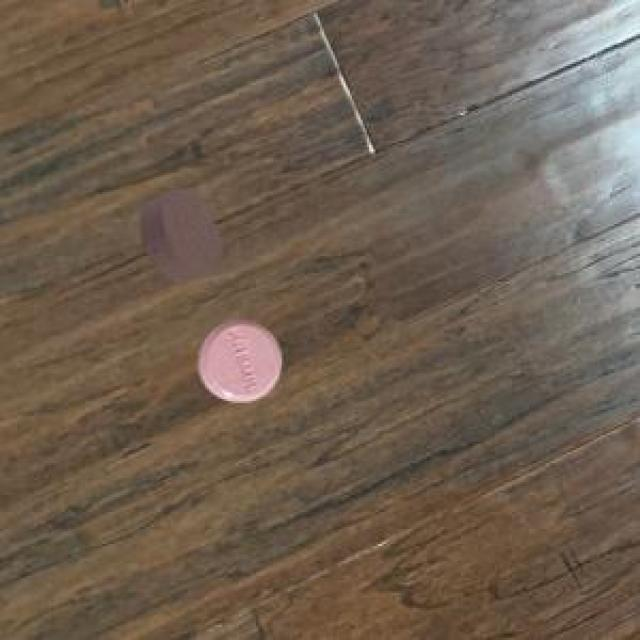Kremil_S: (133, 177, 234, 291), (188, 311, 292, 413)
